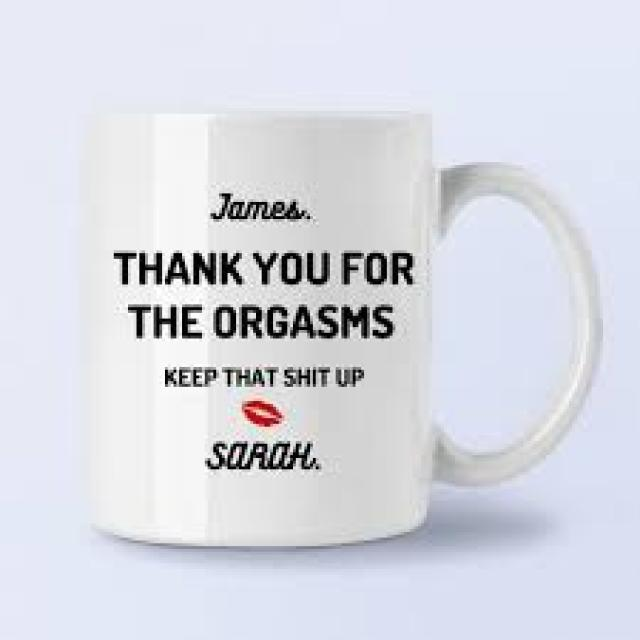taza: (66, 92, 614, 556)
